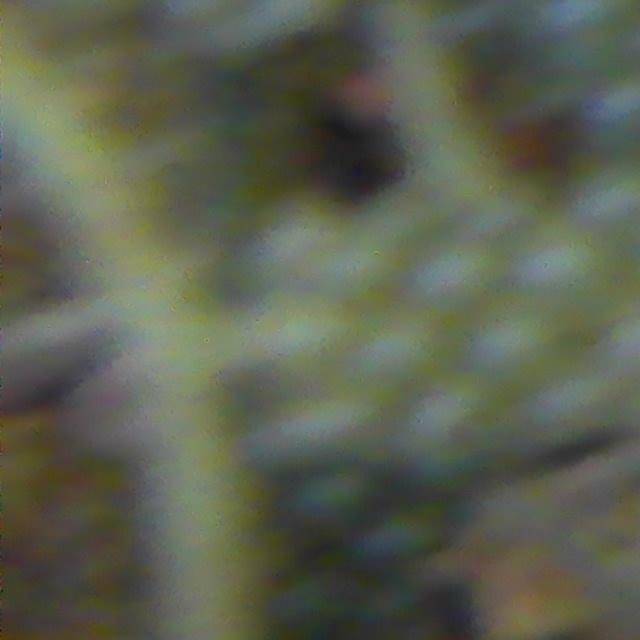SeaGrape: (402, 371, 495, 467), (515, 219, 609, 304), (525, 359, 616, 444), (266, 292, 353, 376), (356, 306, 442, 387), (469, 300, 555, 380), (415, 235, 498, 310), (576, 156, 640, 230)
